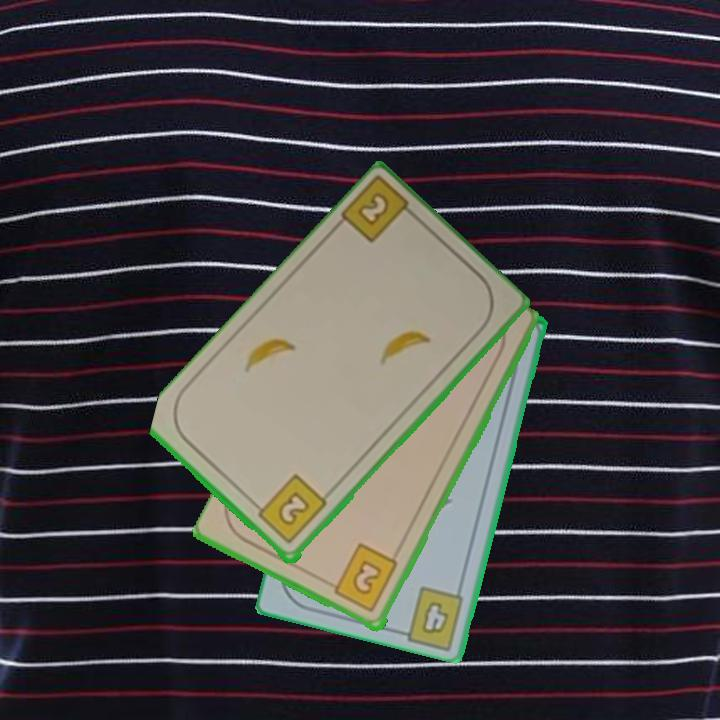2b: (249, 471, 330, 547), (337, 176, 423, 247), (323, 541, 401, 616)
4b: (418, 598, 452, 638)
